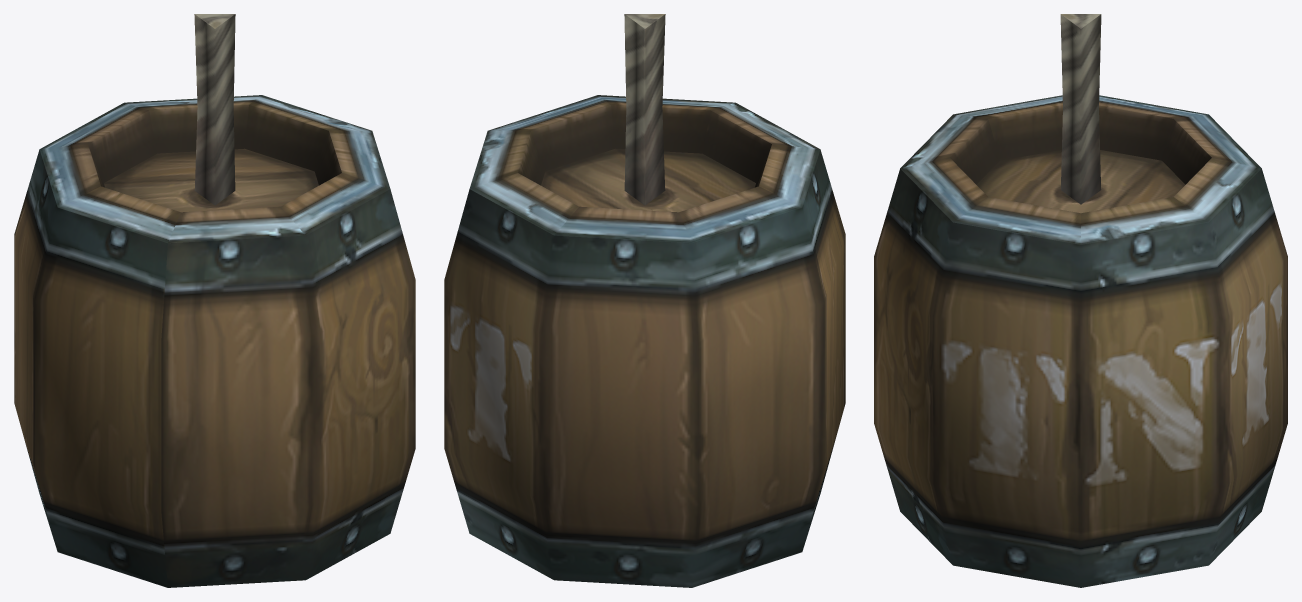
File: tnt_barrel.fbx
3 renders of one model, left to right at view 1: azimuth 30°, elevation 25°; view 2: azimuth 150°, elevation 25°; view 3: azimuth 270°, elevation 25°, orthographic.
Parts seen in each view (by area): view 1: tnt_barrel; view 2: tnt_barrel; view 3: tnt_barrel.
Part boxes in pixels (x1=…): tnt_barrel: x1=14, y1=14, x2=415, y2=587; tnt_barrel: x1=444, y1=14, x2=845, y2=587; tnt_barrel: x1=874, y1=14, x2=1287, y2=587.
Size of the model in its own units: 32.86 by 43.92 by 32.86.
